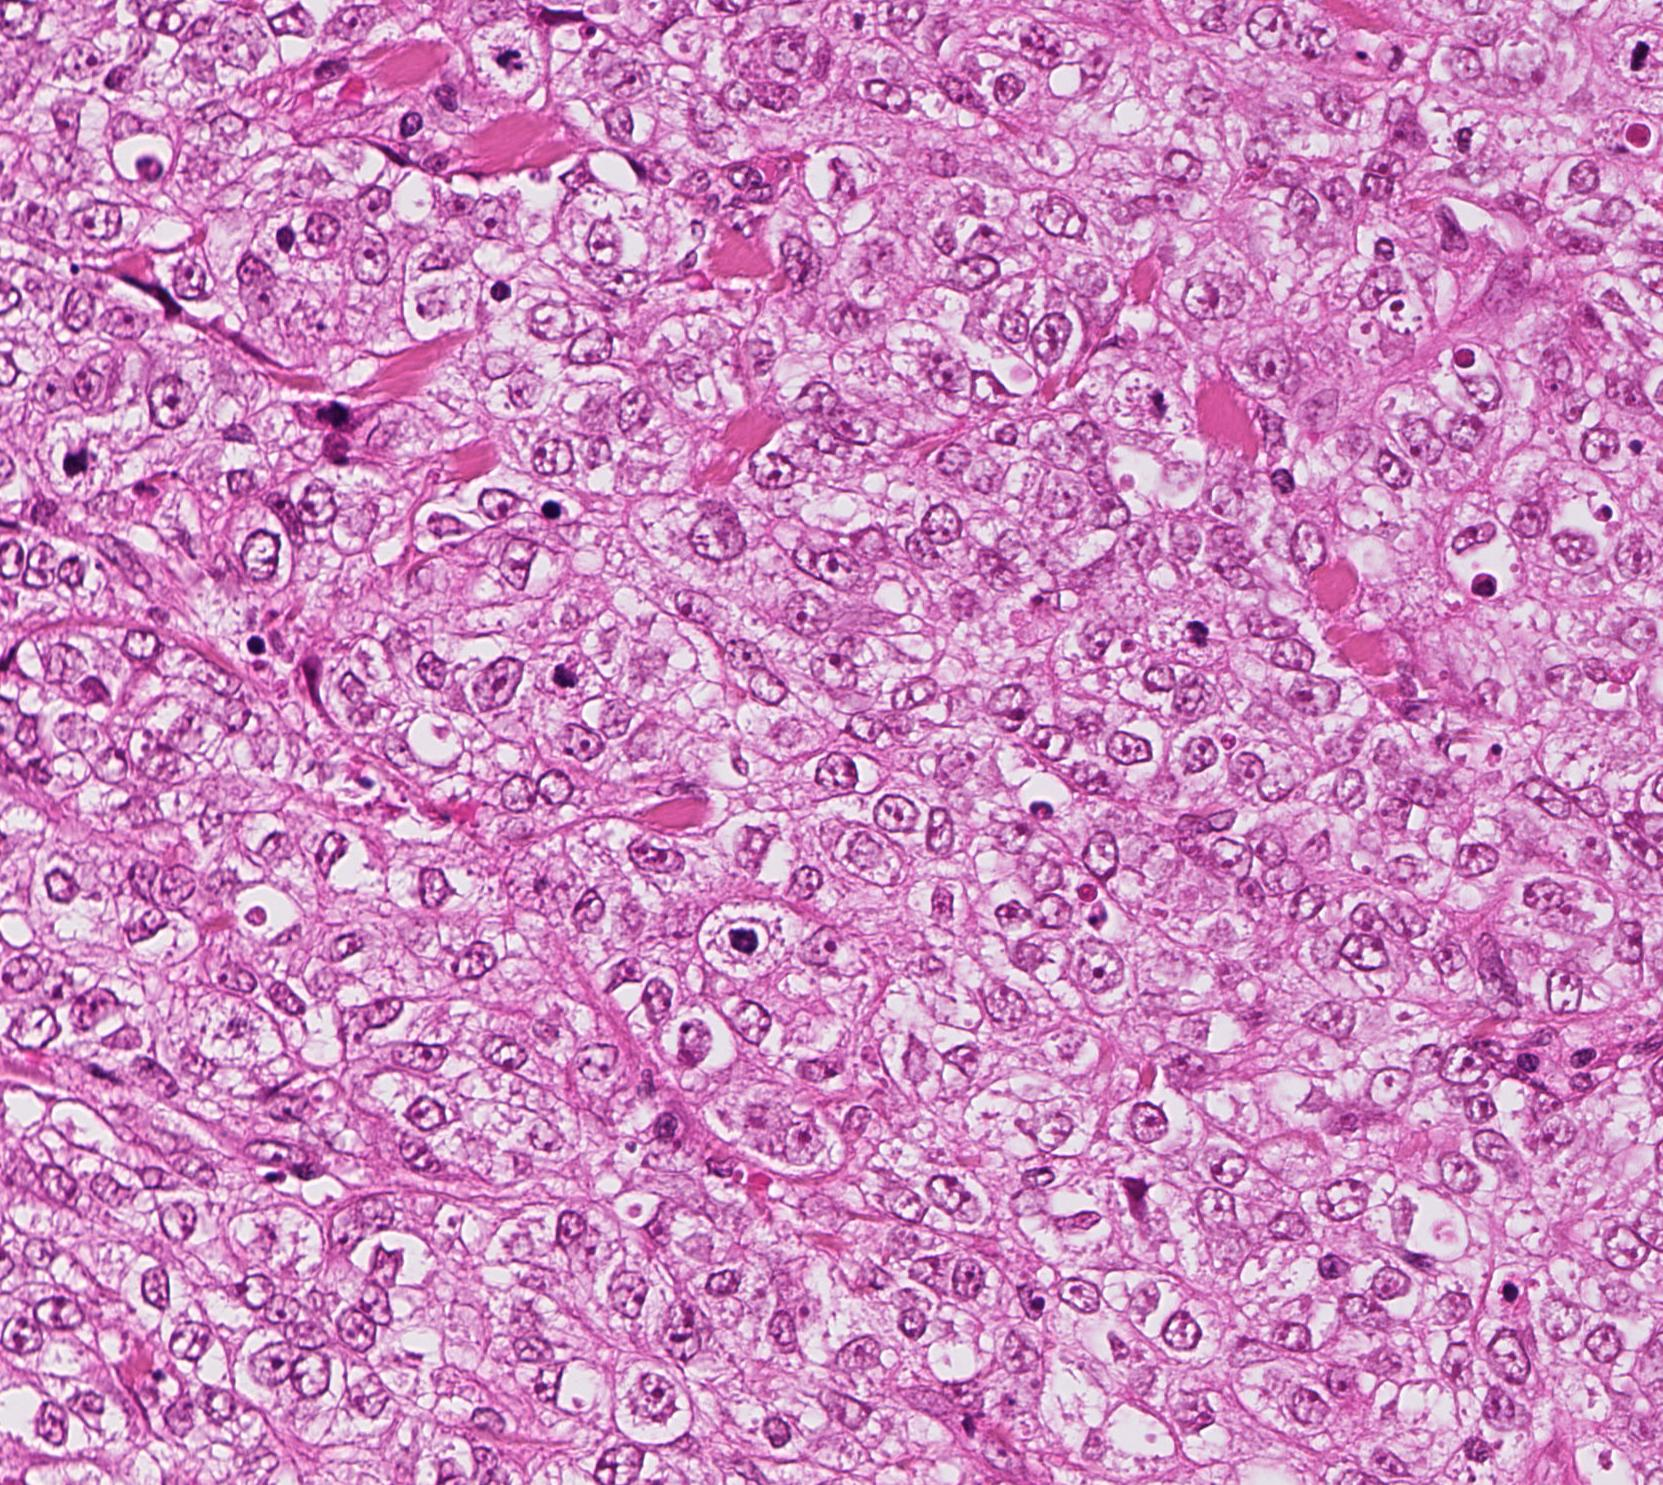mitosis: (39, 430, 99, 490), (1601, 24, 1662, 85)
